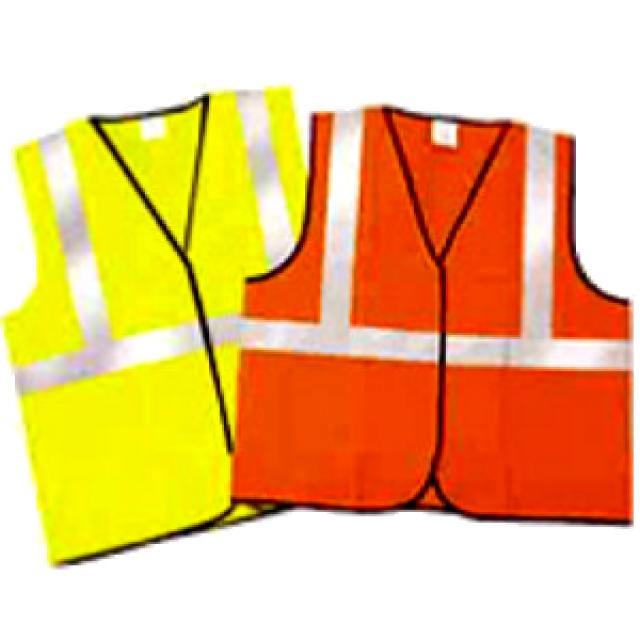Reflective-Jacket: (217, 100, 640, 524), (7, 58, 324, 565)
